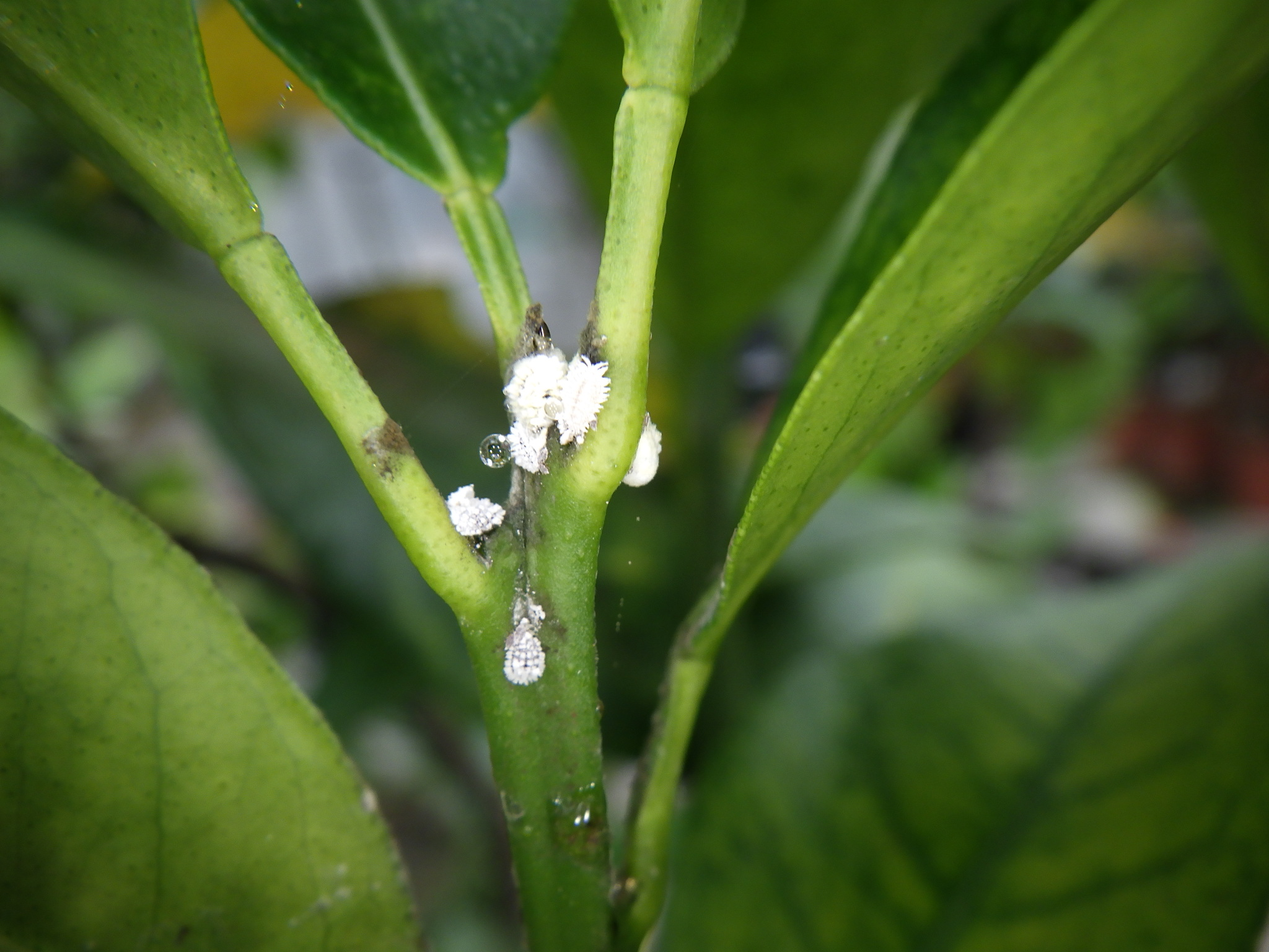Scale_Insect: (503, 356, 608, 471), (504, 601, 545, 684), (446, 485, 504, 536), (623, 415, 661, 486)
